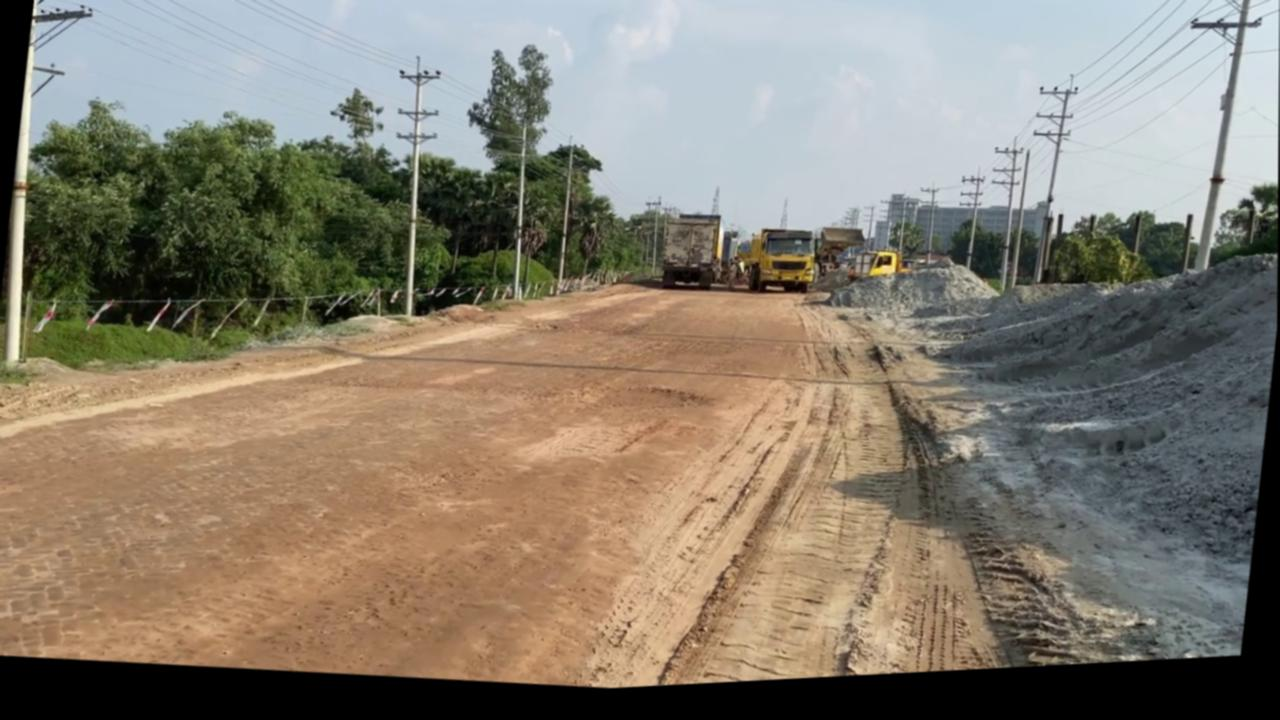Pole: (372, 56, 446, 321), (1017, 83, 1080, 297), (503, 127, 540, 305), (552, 146, 580, 298)
Rickshaw: (0, 196, 1076, 720)
Tree: (733, 230, 819, 306), (656, 219, 724, 304), (812, 232, 868, 291), (846, 254, 912, 296)
